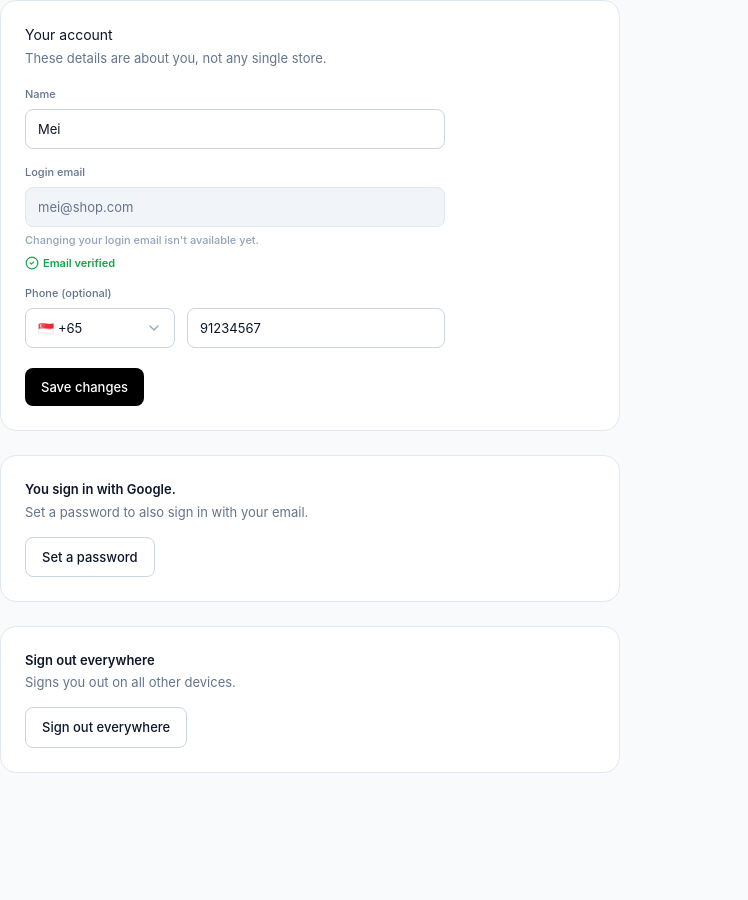
Test: AccountSettings › shows the account and saves name + phone, refreshing the session
Expected: the field showing "mei@shop.com" is shown, top-left (25, 187), bottom-right (445, 227)
Expected: the text "Changing your login email isn't available yet." is shown, top-left (25, 233), bottom-right (259, 247)
Replace the text in the field with placeholder "Your name" with "Mei Tan". click: (235, 129)
box: top-left (25, 109), bottom-right (445, 149)
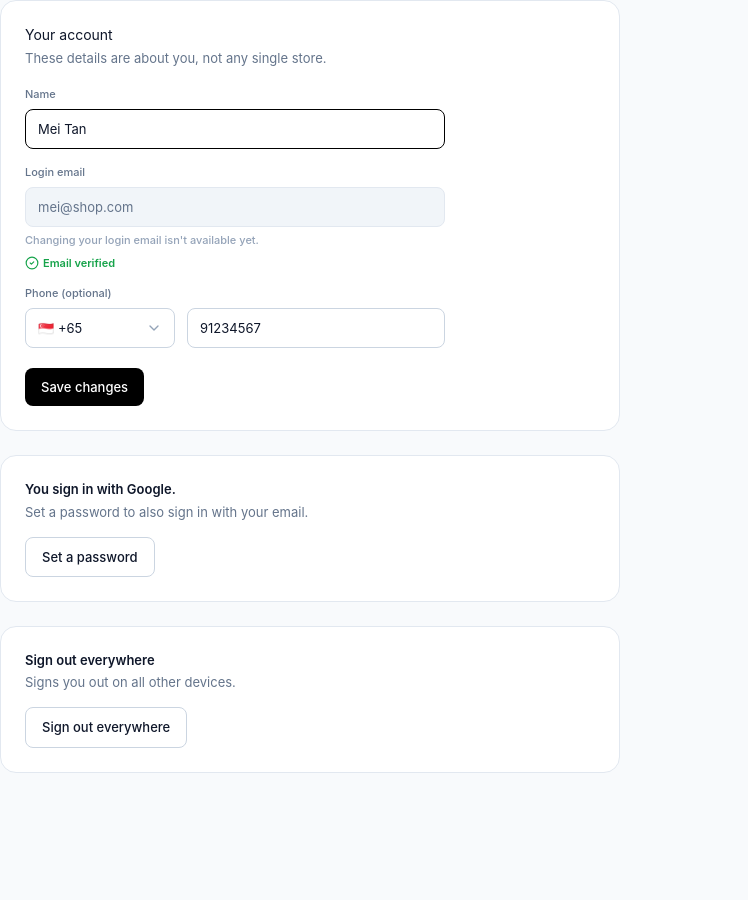
Click the button "Save changes". click: (85, 387)
box: top-left (25, 368), bottom-right (144, 406)
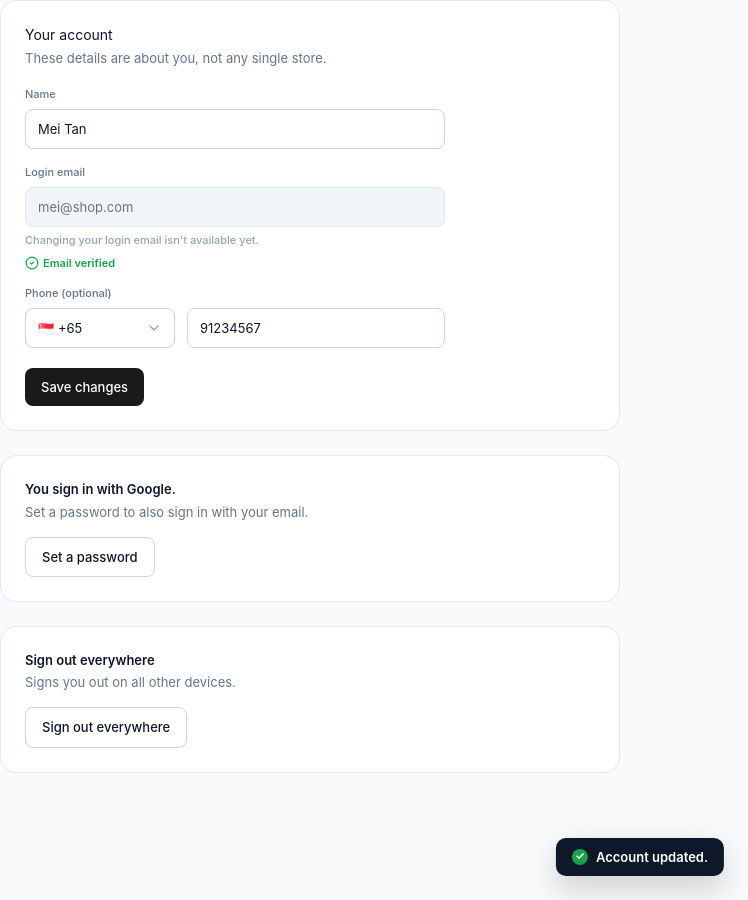
Result: the text "Account updated." is shown at top-left (596, 849), bottom-right (708, 865)
